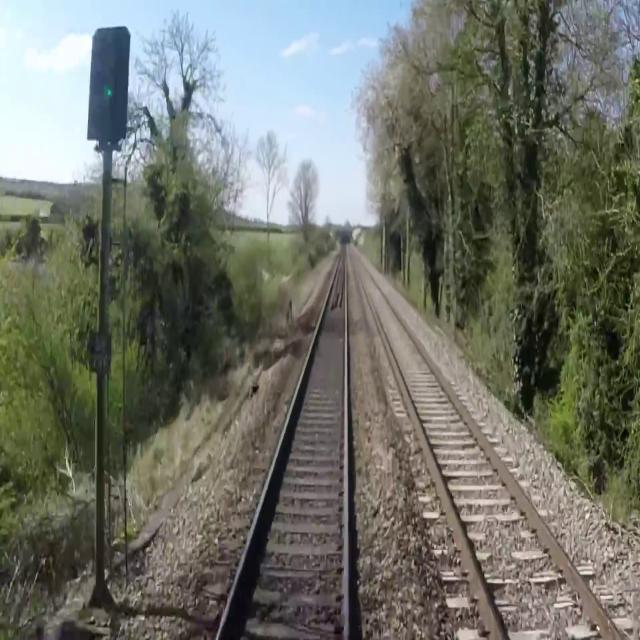rail-track: (362, 269, 619, 639), (219, 254, 345, 639)
